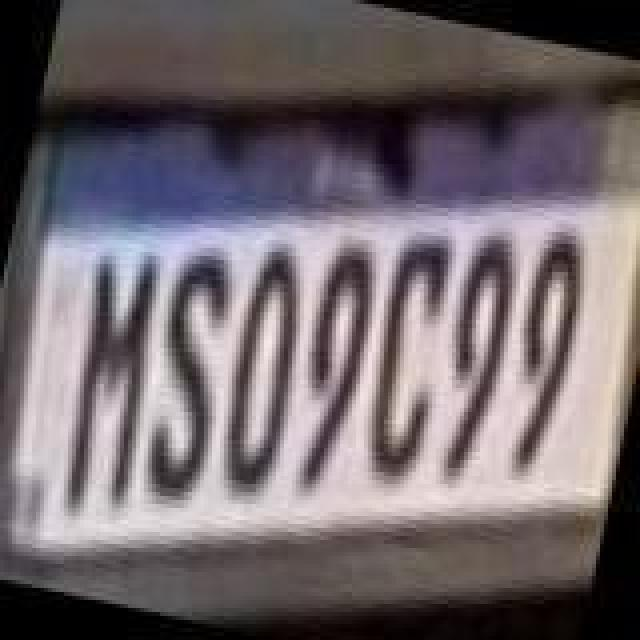9: (278, 234, 394, 502), (416, 228, 528, 492), (488, 224, 600, 488)
C: (346, 224, 470, 496)
M: (44, 238, 180, 530)
O: (204, 244, 324, 508)
S: (126, 240, 250, 512)
